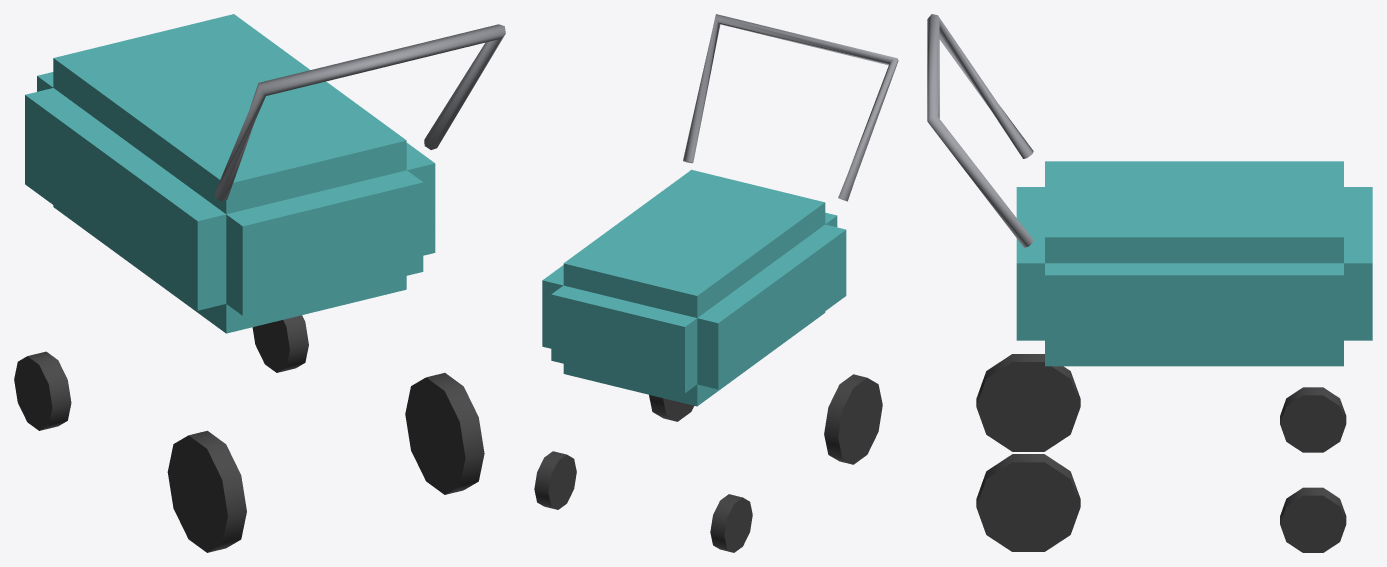
The model's file is stroller.glb.
3 views of the same model, side by side, from view 1: azimuth 30°, elevation 25°; view 2: azimuth 150°, elevation 25°; view 3: azimuth 270°, elevation 25° (orthographic). The views are drawn at different scales.
Parts seen in each view (by area): view 1: stroller; view 2: stroller; view 3: stroller.
Boxes of the visible parts, x1,y1,x2,y2 form: stroller: (14, 14, 505, 552); stroller: (534, 14, 898, 552); stroller: (927, 14, 1372, 552).
Bounding box in the file's own units: 0.54 × 1.01 × 0.9379.
